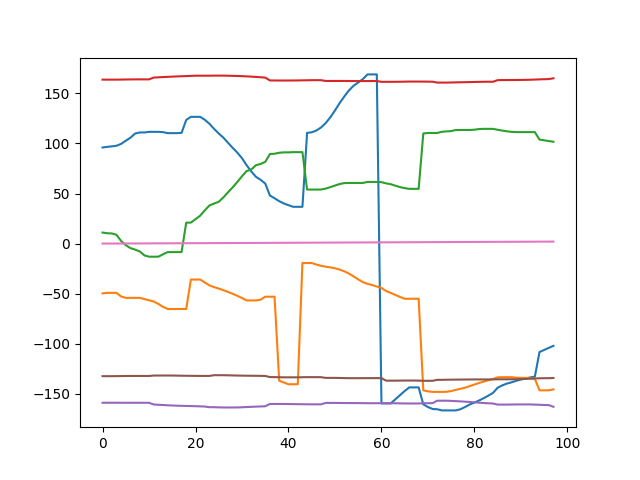Too_Fast_Down: (1, 2, 640, 480)
